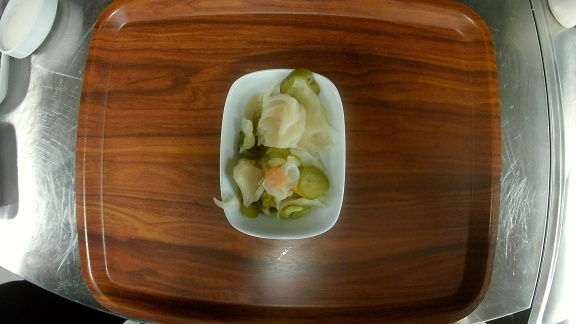tursu: (220, 67, 347, 239)
